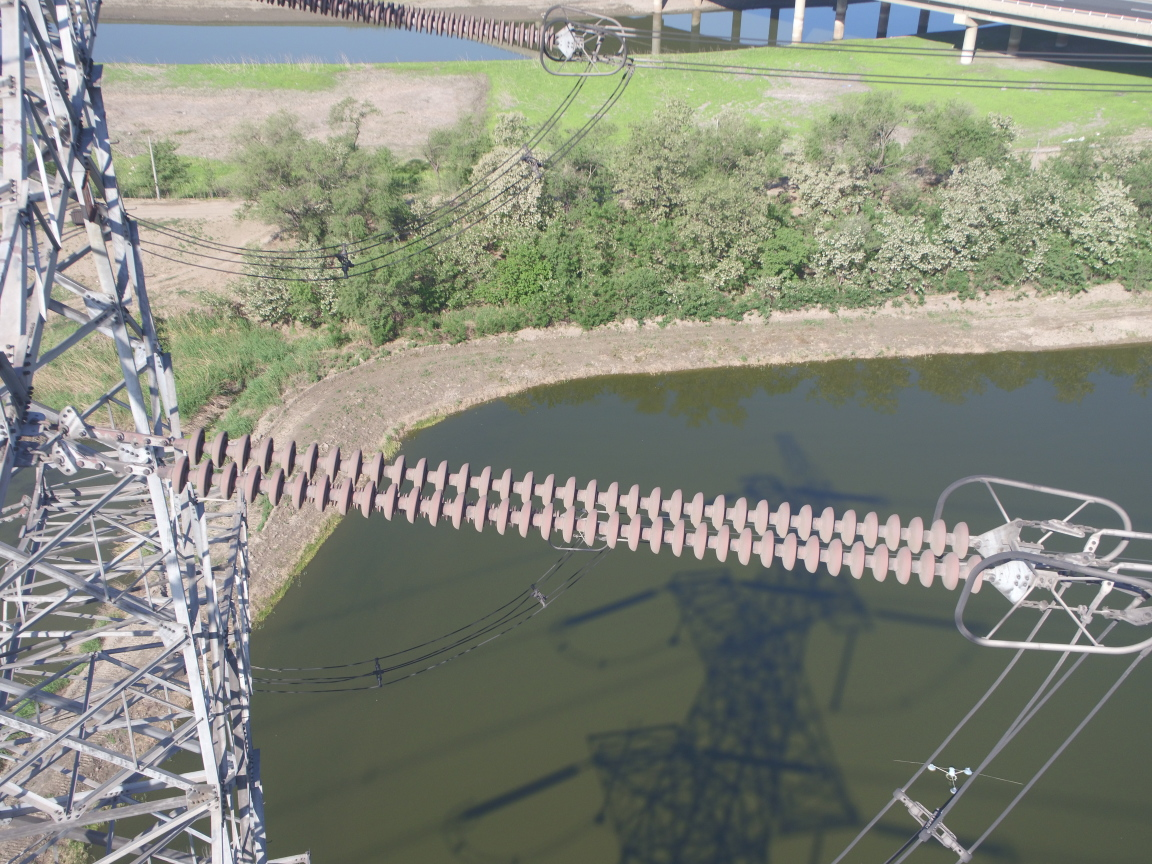insulator: (122, 424, 1008, 594), (243, 1, 560, 53)
